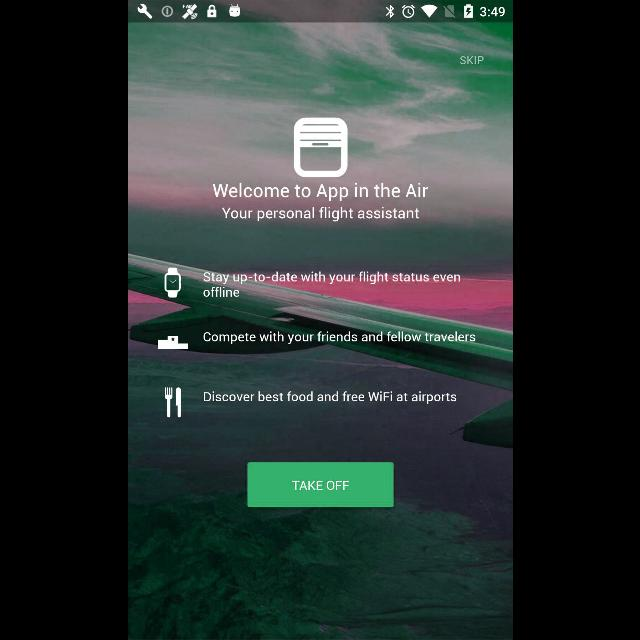backgroundimage: (128, 22, 512, 640)
image: (293, 118, 347, 178), (163, 268, 180, 298), (163, 388, 180, 418), (157, 336, 187, 350)
text: (212, 182, 428, 222), (202, 272, 460, 298), (202, 390, 456, 406), (202, 331, 476, 345), (459, 56, 483, 66)
textbutton: (247, 462, 393, 508)
uppertaskbar: (128, 1, 512, 23)
